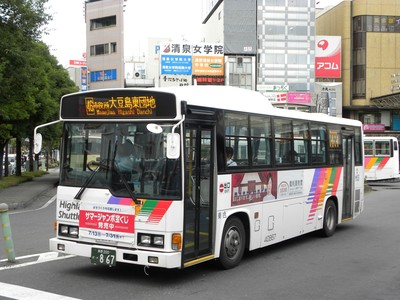destination: (78, 93, 156, 116)
